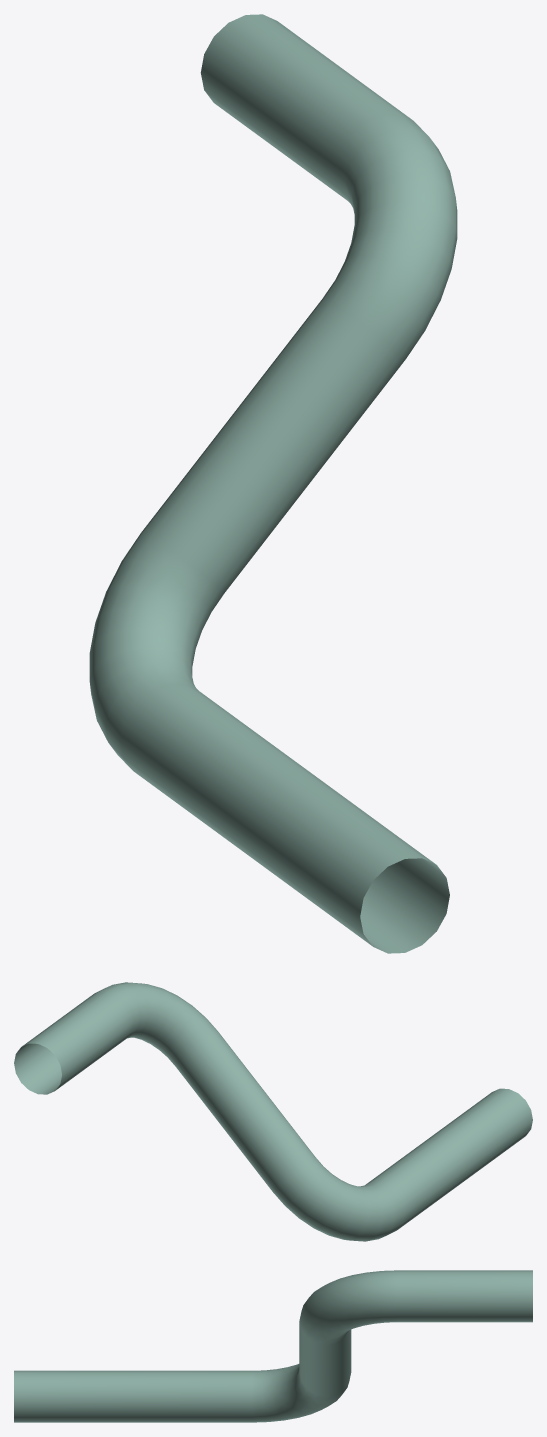
Rendered from PipeLarge_BentSpecial_03.fbx.
3 views of the same model, one above another, from view 1: azimuth 30°, elevation 25°; view 2: azimuth 150°, elevation 25°; view 3: azimuth 270°, elevation 25° (orthographic). The views are drawn at different scales.
Visible parts, largest first — view 1: PipeLarge_BentSpecial_03.001; view 2: PipeLarge_BentSpecial_03.001; view 3: PipeLarge_BentSpecial_03.001.
Part boxes in pixels (x1=…): PipeLarge_BentSpecial_03.001: x1=89, y1=14, x2=457, y2=953; PipeLarge_BentSpecial_03.001: x1=14, y1=982, x2=532, y2=1241; PipeLarge_BentSpecial_03.001: x1=14, y1=1270, x2=532, y2=1422.
Bounding box in the file's own units: 1 × 1 × 2.
